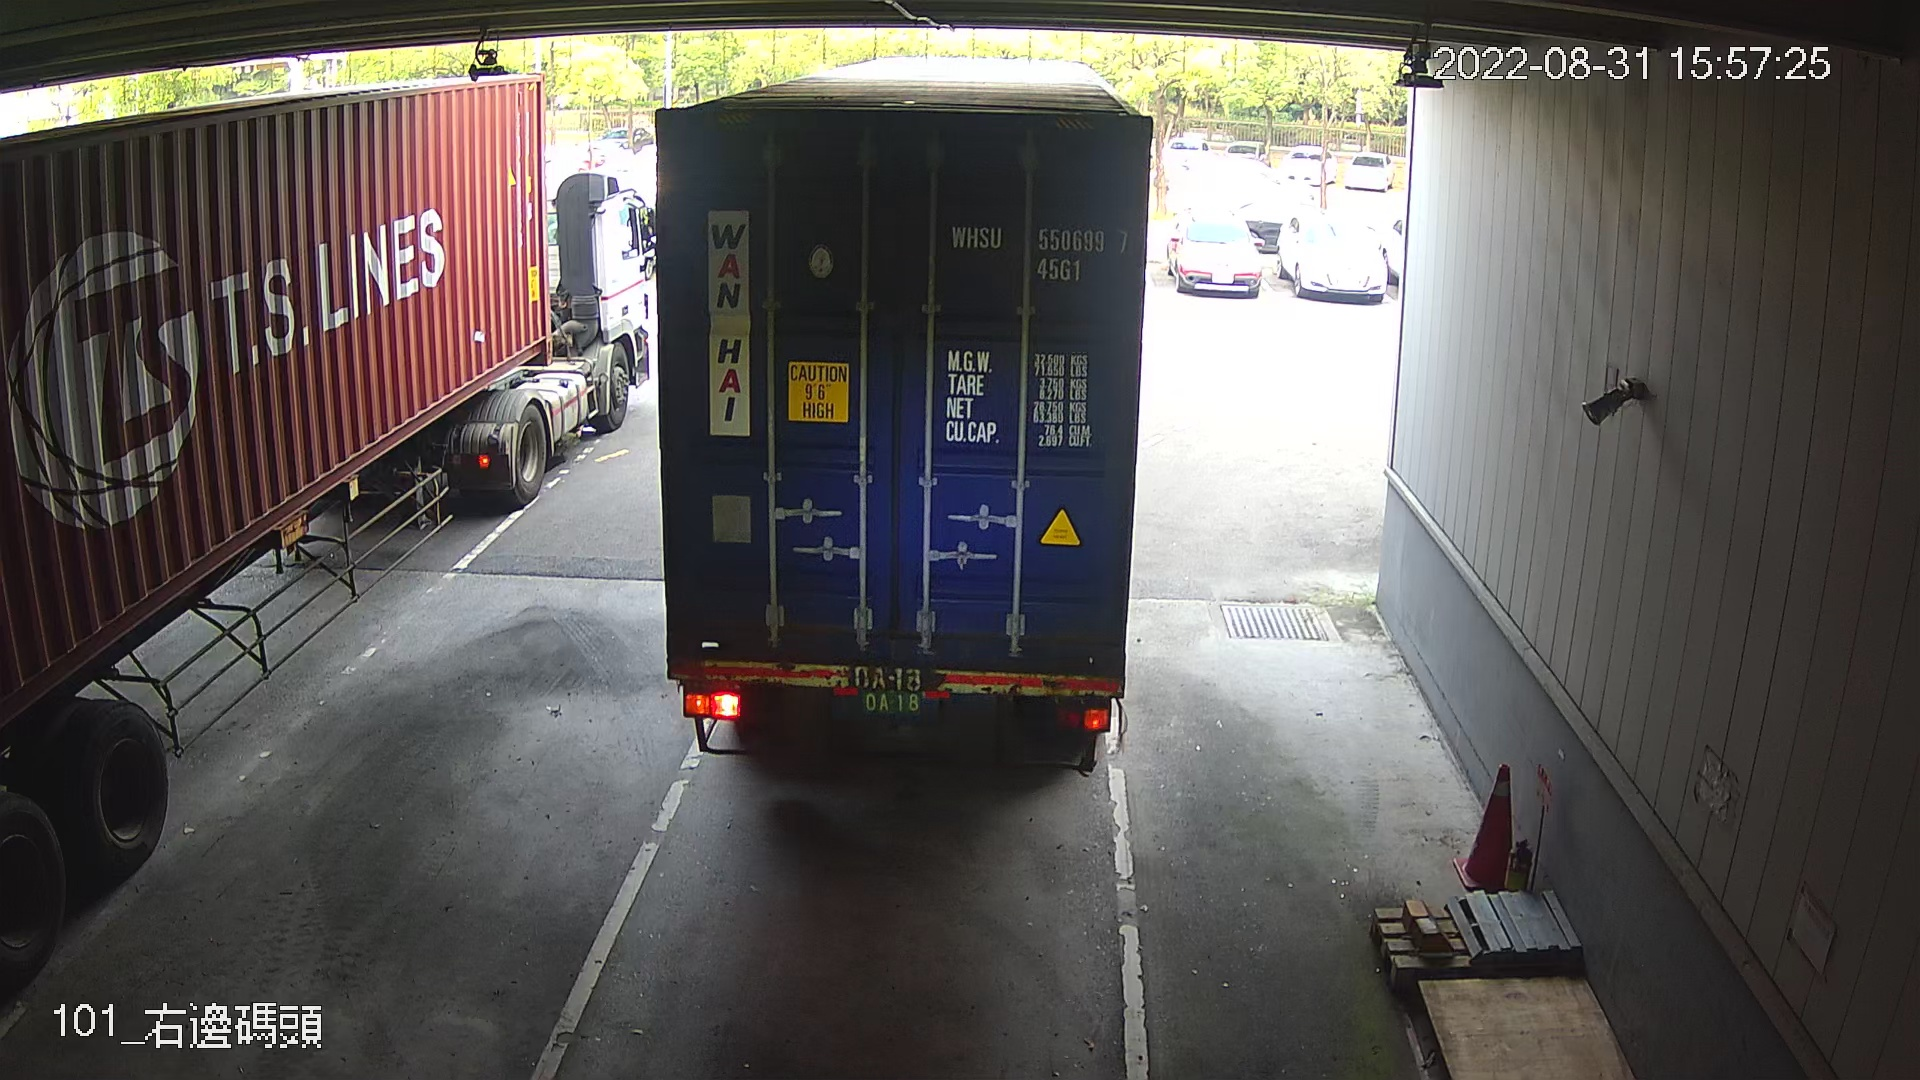container: (938, 216, 1135, 294)
